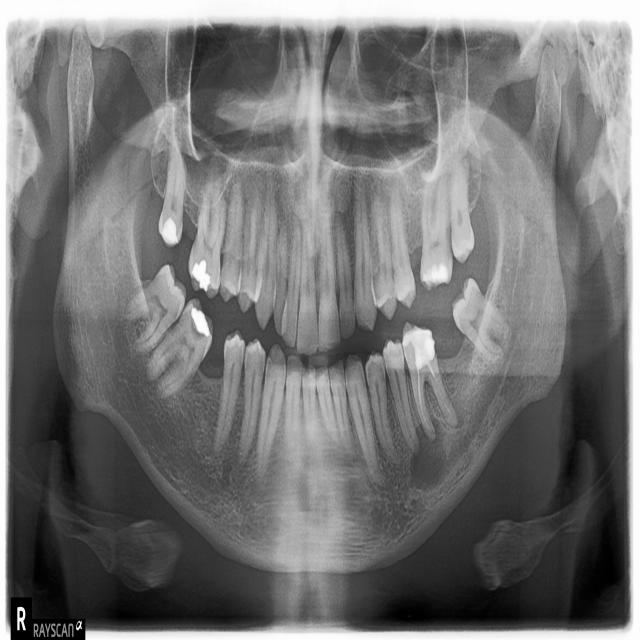mandibula: (52, 26, 567, 577)
